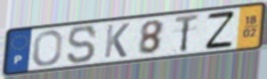8: (137, 19, 165, 56)
K: (102, 22, 132, 60)
O: (31, 29, 65, 68)
S: (66, 24, 99, 66)
T: (173, 12, 201, 54)
Z: (204, 9, 236, 51)
